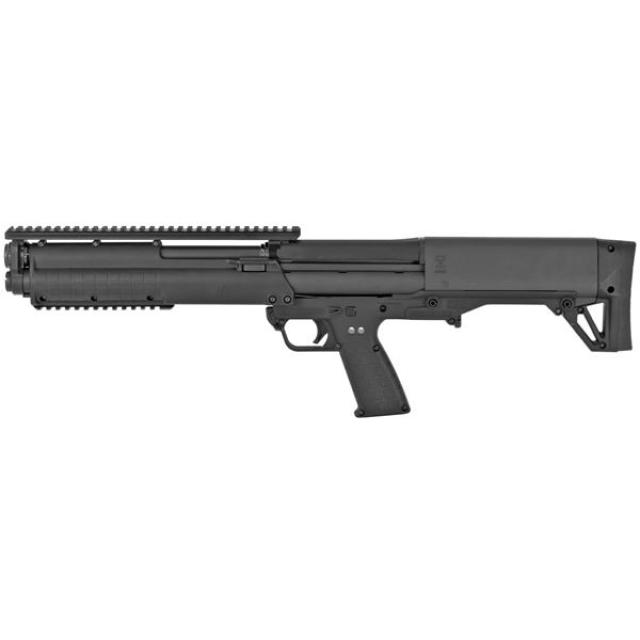ShotGun: (3, 225, 640, 421)
